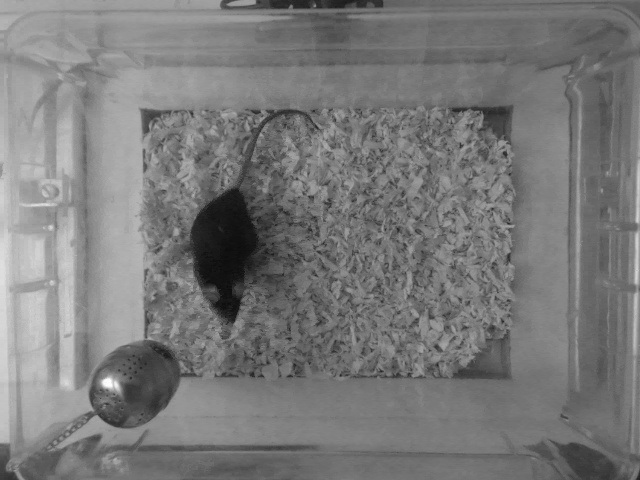mice: (188, 103, 321, 329)
